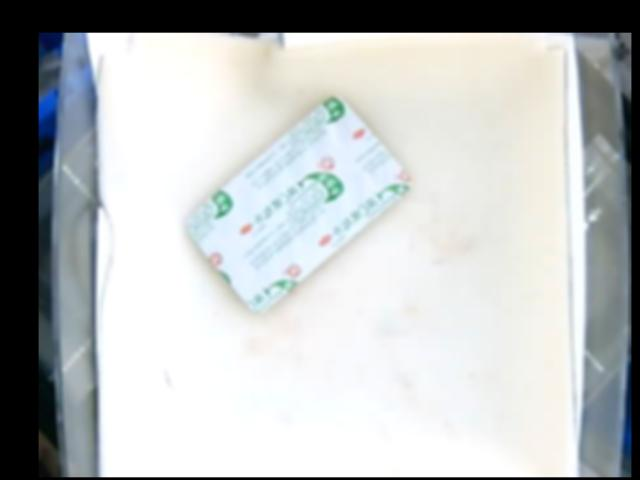Medicine: (183, 96, 405, 313)
